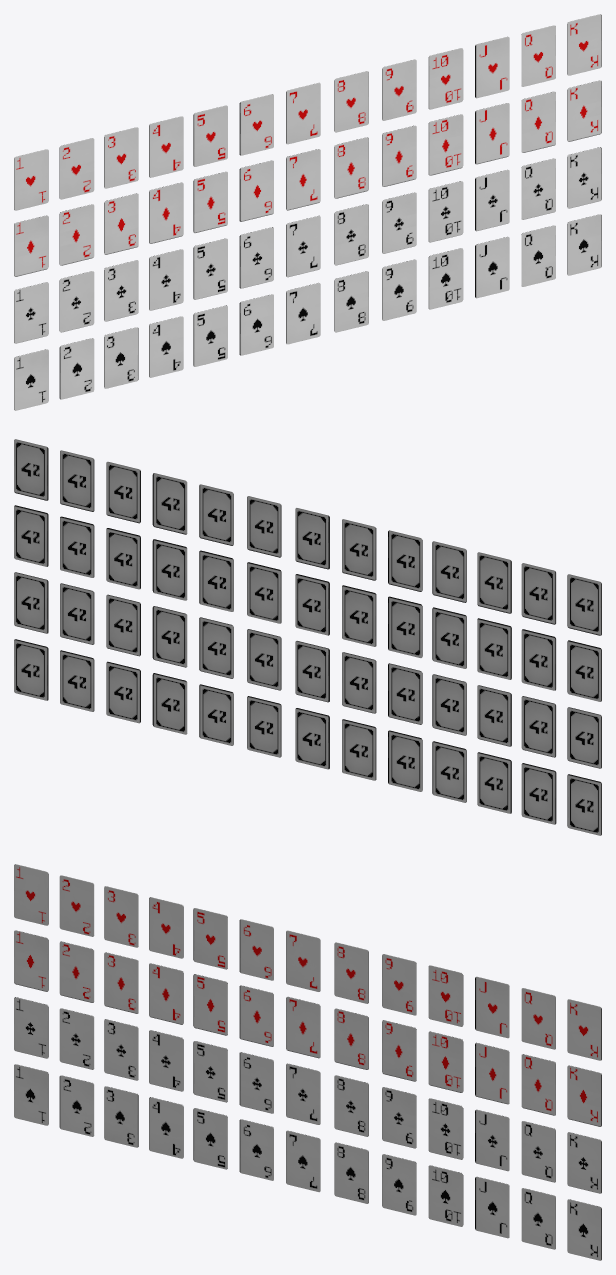
File: cardsFlippedHV.gltf
3 renders of one model, top to bottom at view 1: azimuth 30°, elevation 25°; view 2: azimuth 150°, elevation 25°; view 3: azimuth 330°, elevation 25°, orthographic.
Parts seen in each view (by area): view 1: diamondsTwo, diamondsTen, clubsTen, heartsTwo, heartsTen, clubsTwo, spadesTwo, spadesTen, heartsSeven, diamondsThree, heartsSix, heartsNine (+40 smaller); view 2: diamondsTwo, diamondsTen, clubsTen, heartsTwo, heartsTen, clubsTwo, spadesTwo, spadesTen, heartsSeven, diamondsThree, heartsSix, heartsNine (+40 smaller); view 3: clubsTwo, diamondsTen, diamondsTwo, spadesTwo, spadesTen, heartsTwo, heartsTen, clubsTen, diamondsFive, diamondsJack, clubsSix, spadesSeven (+40 smaller).
Boxes of the visible parts, x1,y1,x2,y2 form: diamondsTwo: [59, 204, 94, 265]; diamondsTen: [428, 114, 463, 175]; clubsTen: [428, 181, 463, 242]; heartsTwo: [59, 138, 94, 199]; heartsTen: [428, 48, 463, 109]; clubsTwo: [59, 271, 94, 332]; spadesTwo: [59, 338, 94, 399]; spadesTen: [428, 248, 463, 309]; heartsSeven: [286, 82, 320, 144]; diamondsThree: [104, 193, 138, 254]; heartsSix: [239, 94, 273, 155]; heartsNine: [382, 59, 416, 120]; diamondsTwo: [521, 629, 556, 690]; diamondsTen: [152, 539, 187, 600]; clubsTen: [152, 606, 187, 667]; heartsTwo: [521, 563, 556, 624]; heartsTen: [152, 473, 187, 534]; clubsTwo: [521, 696, 556, 757]; spadesTwo: [521, 763, 556, 824]; spadesTen: [152, 673, 187, 734]; heartsSeven: [295, 507, 329, 569]; diamondsThree: [477, 618, 511, 679]; heartsSix: [342, 519, 376, 580]; heartsNine: [199, 484, 233, 545]; clubsTwo: [59, 1008, 94, 1069]; diamondsTen: [428, 1031, 463, 1092]; diamondsTwo: [59, 941, 94, 1002]; spadesTwo: [59, 1075, 94, 1136]; spadesTen: [428, 1165, 463, 1226]; heartsTwo: [59, 875, 94, 936]; heartsTen: [428, 965, 463, 1026]; clubsTen: [428, 1098, 463, 1159]; diamondsFive: [193, 974, 227, 1035]; diamondsJack: [475, 1042, 509, 1104]; clubsSix: [239, 1052, 273, 1113]; spadesSeven: [286, 1130, 320, 1192].
Bounding box in the file's own units: 1.37 × 0.5649 × 0.001.
Materials: 1 (1 with a texture image).
